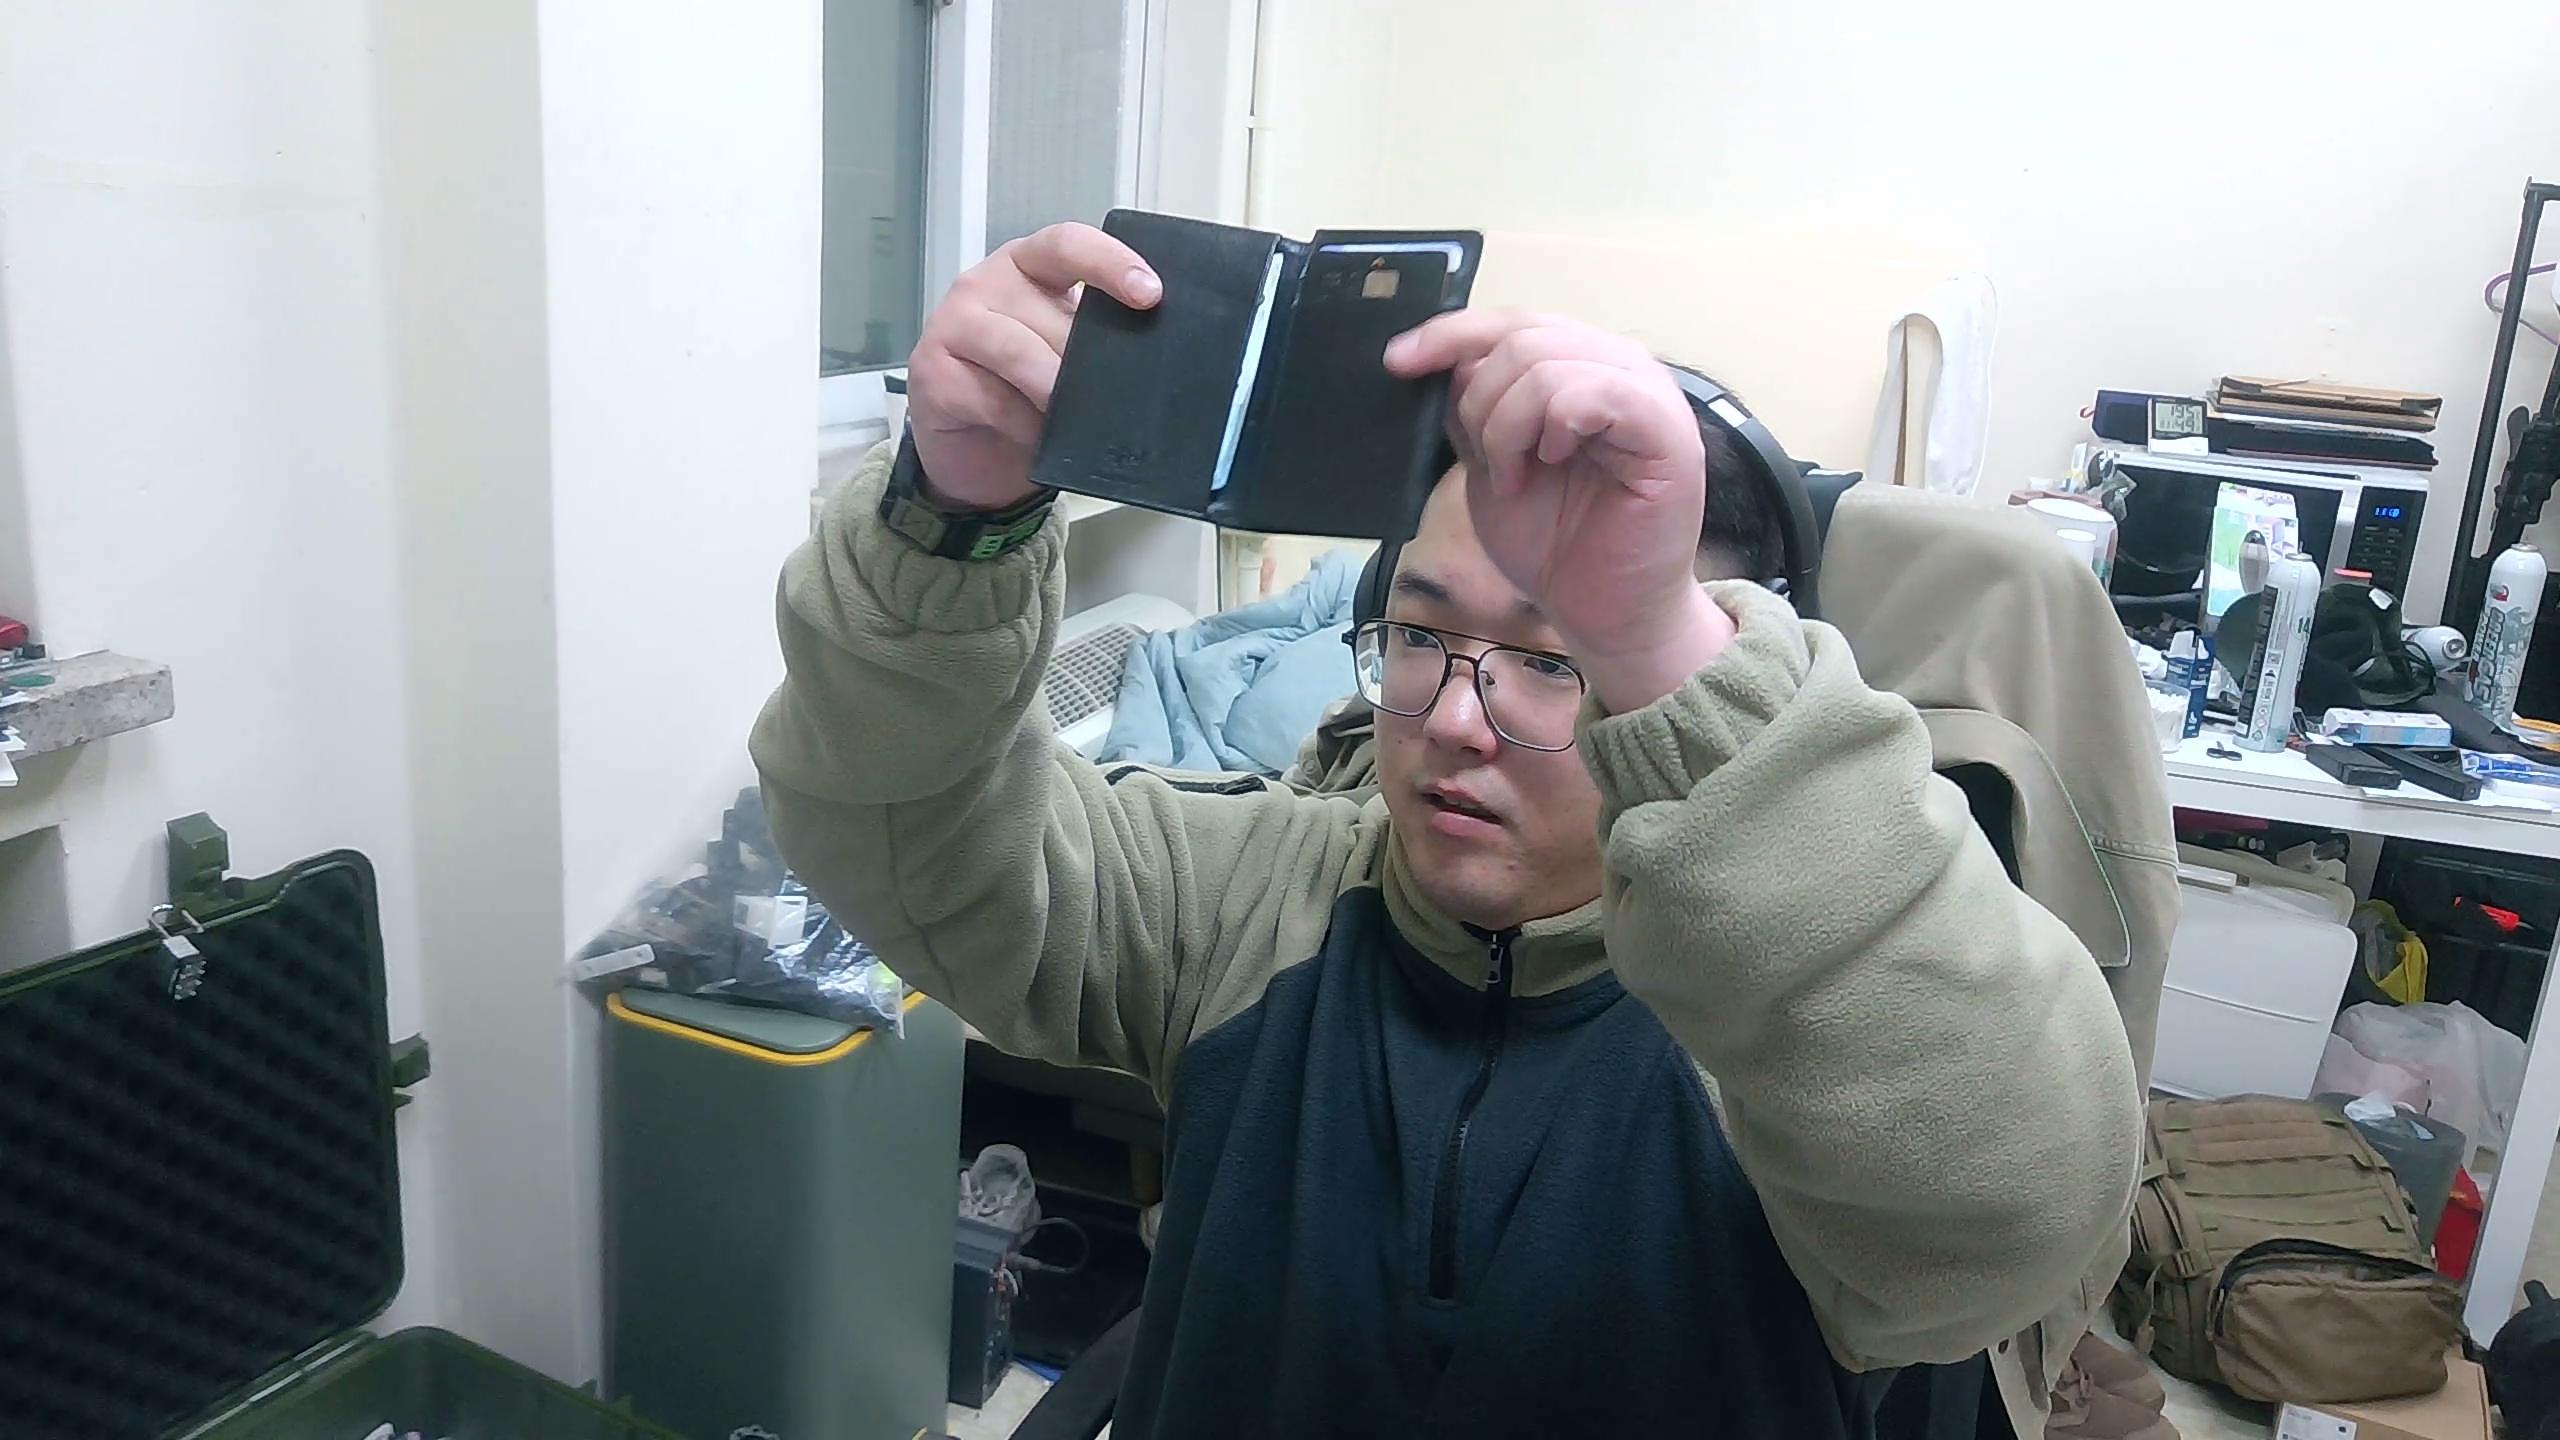Wallet: (1029, 204, 1489, 545)
